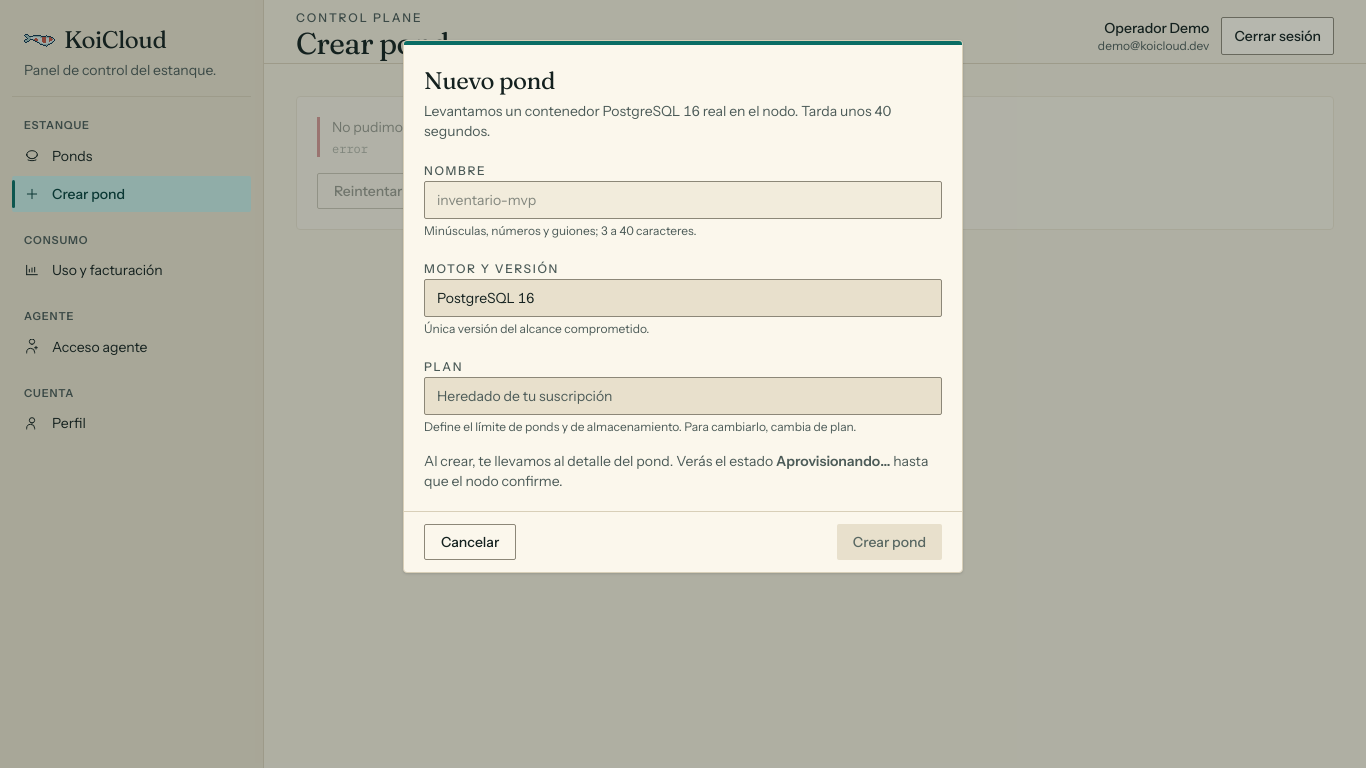
W2-05 Crear pond › validates the name live and echoes it in mono
Type "AB" into the field with test id "create-pond-name". click: (683, 200)
box: [437, 190, 929, 210]
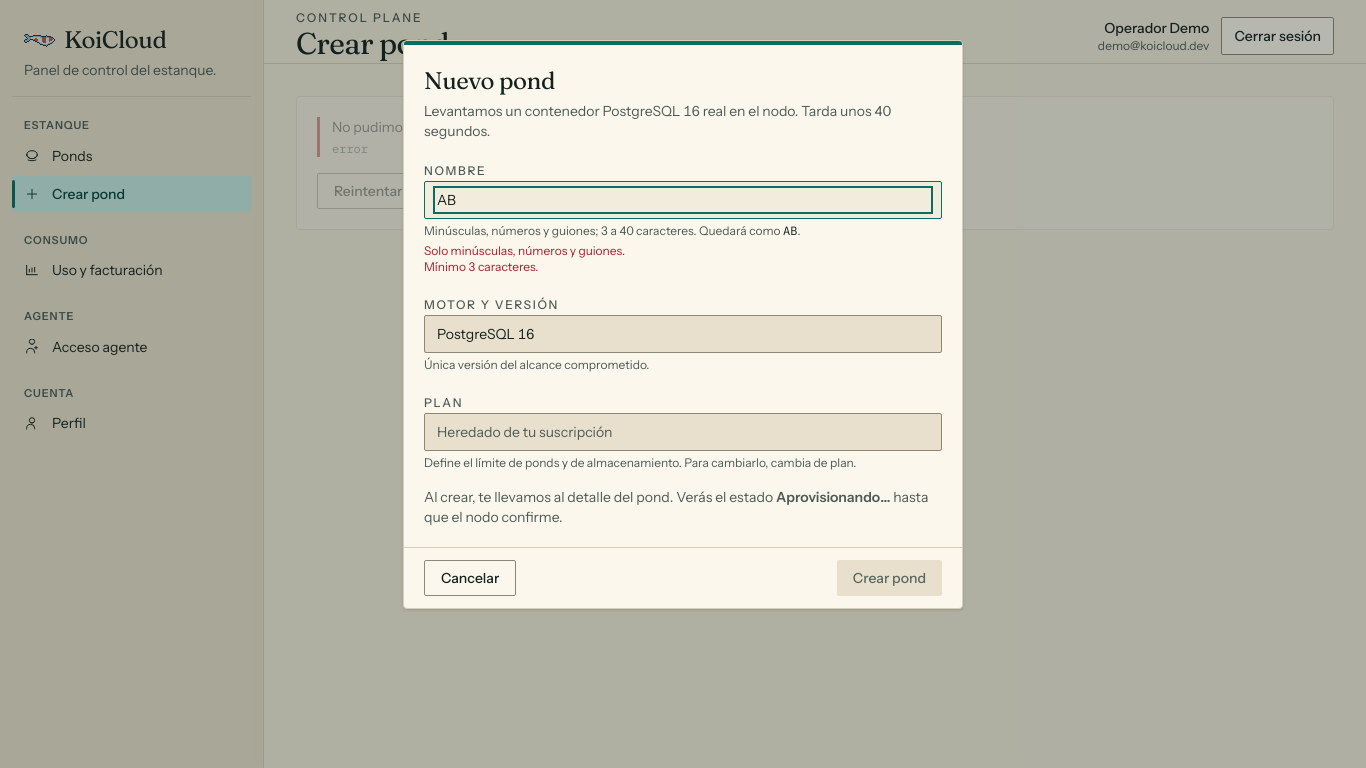
expect the button with test id "create-pond-submit" is disabled: met, box [837, 560, 942, 596]
expect the text with test id "create-pond-echo" reads "AB": met, box [783, 223, 797, 238]
expect the list with test id "create-pond-issues" shows "Solo minúsculas, números y guiones.": met, box [424, 243, 625, 258]
Replace the text in the field with test id "create-pond-name" with "inventario-mvp". click: (683, 200)
box: [437, 190, 929, 210]
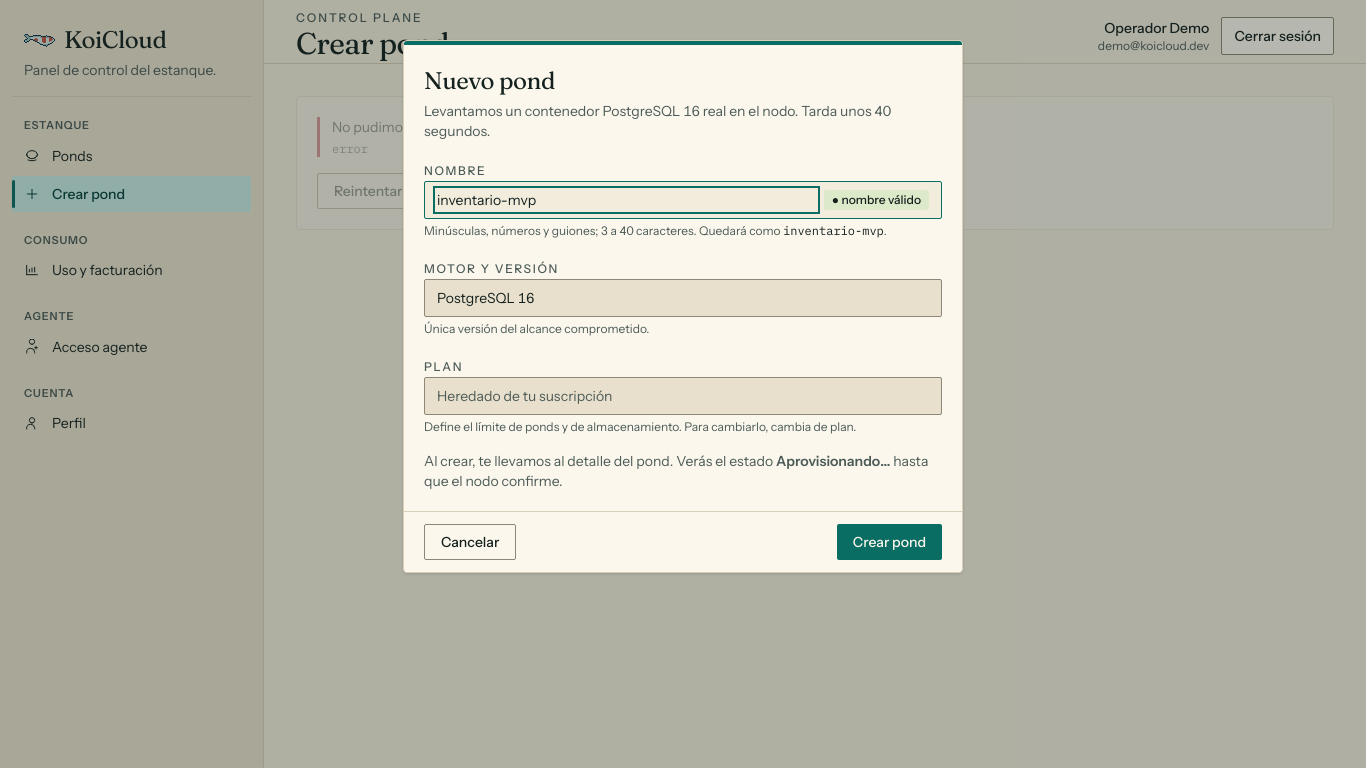
expect the text with test id "create-pond-echo" reads "inventario-mvp": met, box [783, 223, 884, 238]
expect the text "● nombre válido" is shown: met, box [824, 190, 929, 210]
expect the button with test id "create-pond-submit" is enabled: met, box [837, 524, 942, 560]
